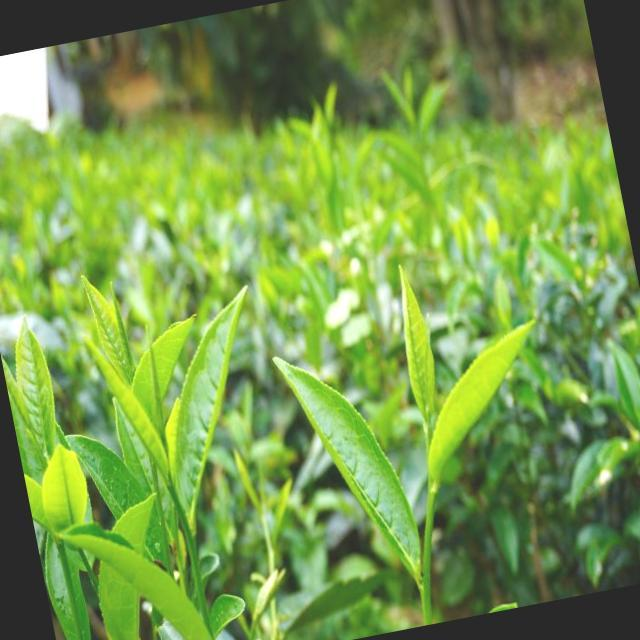Stem: (427, 492, 435, 510), (168, 483, 173, 492)
